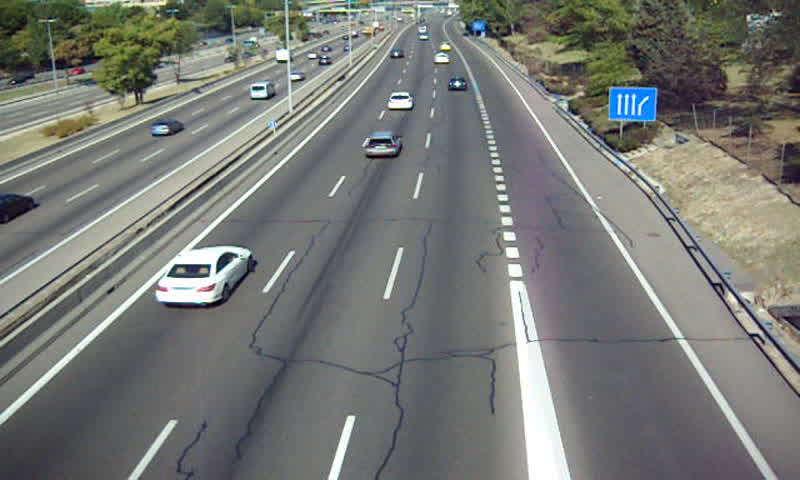car: (153, 246, 253, 309), (364, 131, 403, 158), (389, 92, 414, 109), (447, 76, 467, 92)
